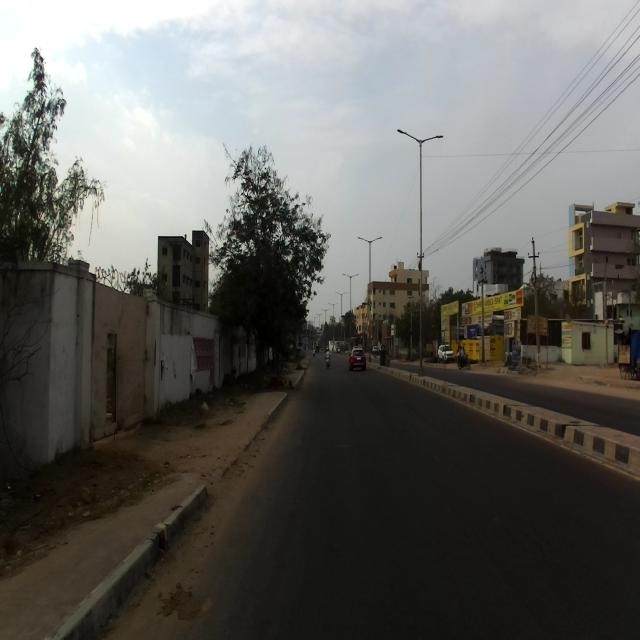tree ahead at: (225, 179, 310, 390)
